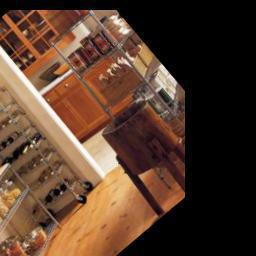Bote de Basura: (95, 96, 210, 215)
